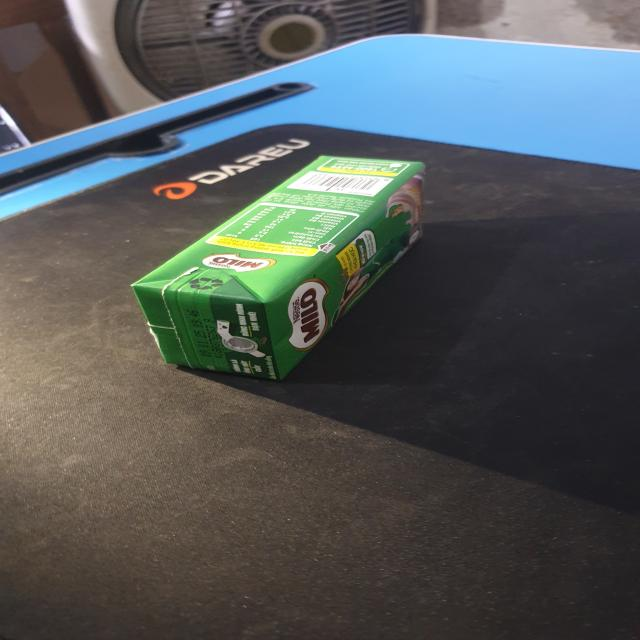Milo: (139, 158, 436, 388)
